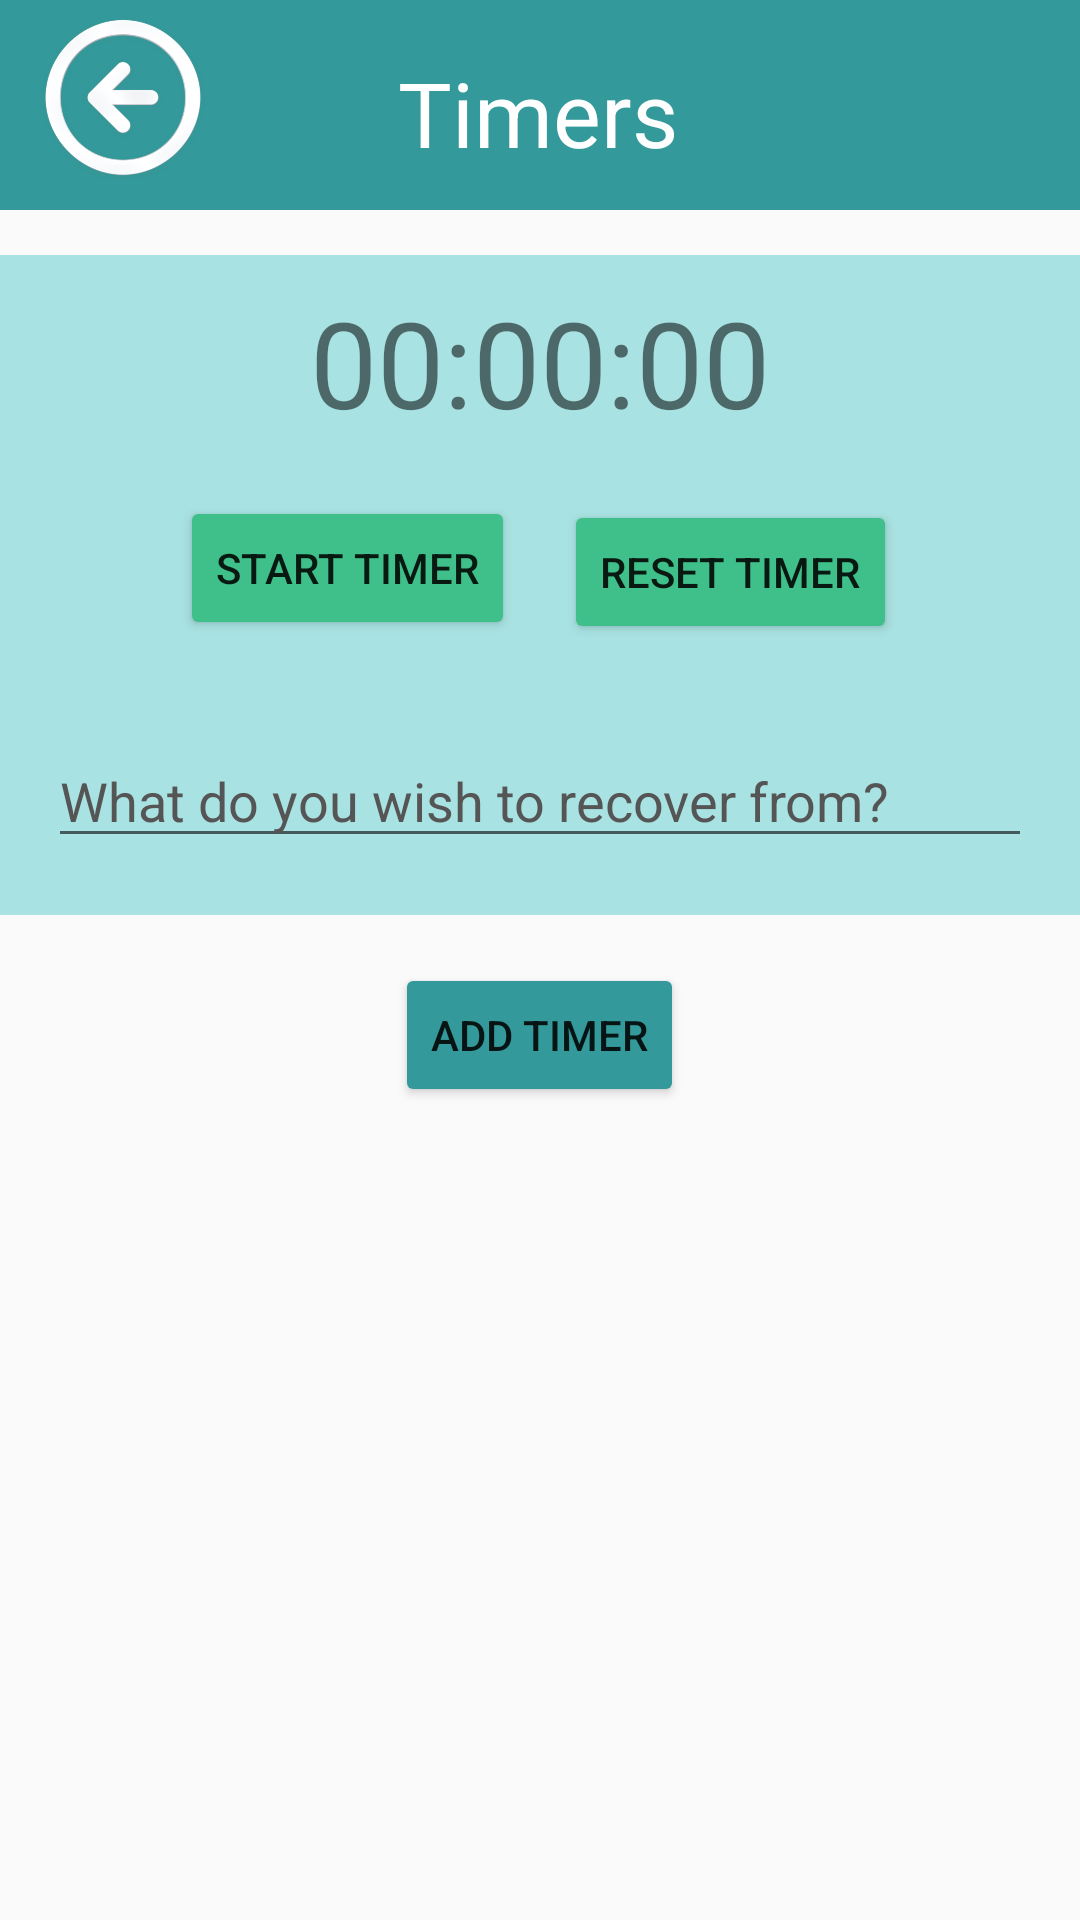

Screen size 1080px x 1920px. Icon name, then its box in pixels as (x1=x1, y1=y1, x2=x2, y2=y2):
arrowbtn: (x1=45, y1=20, x2=201, y2=175)
